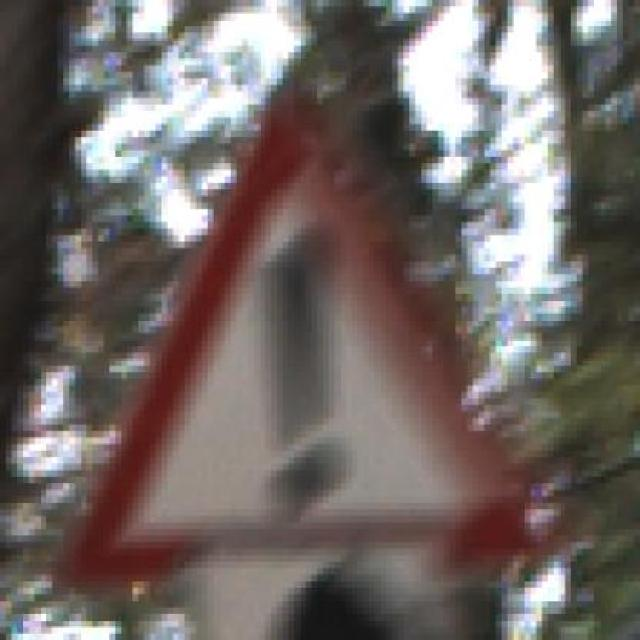Attention Please-: (52, 58, 531, 588)
